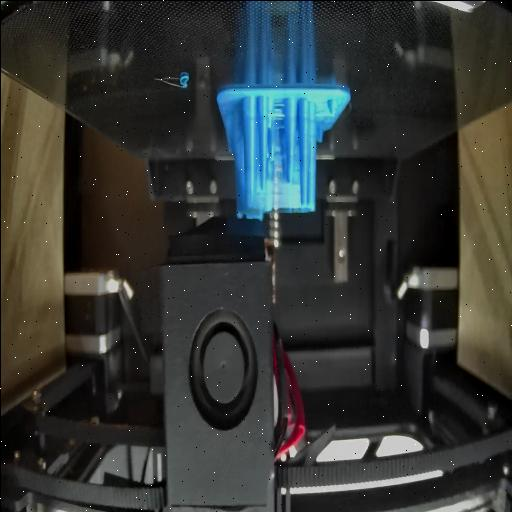stringing: (250, 180, 298, 210), (268, 100, 285, 126)
